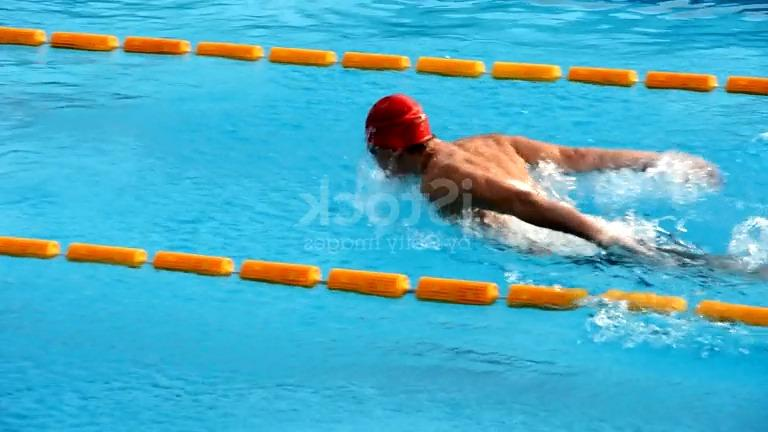Swimming: (294, 51, 743, 288)
